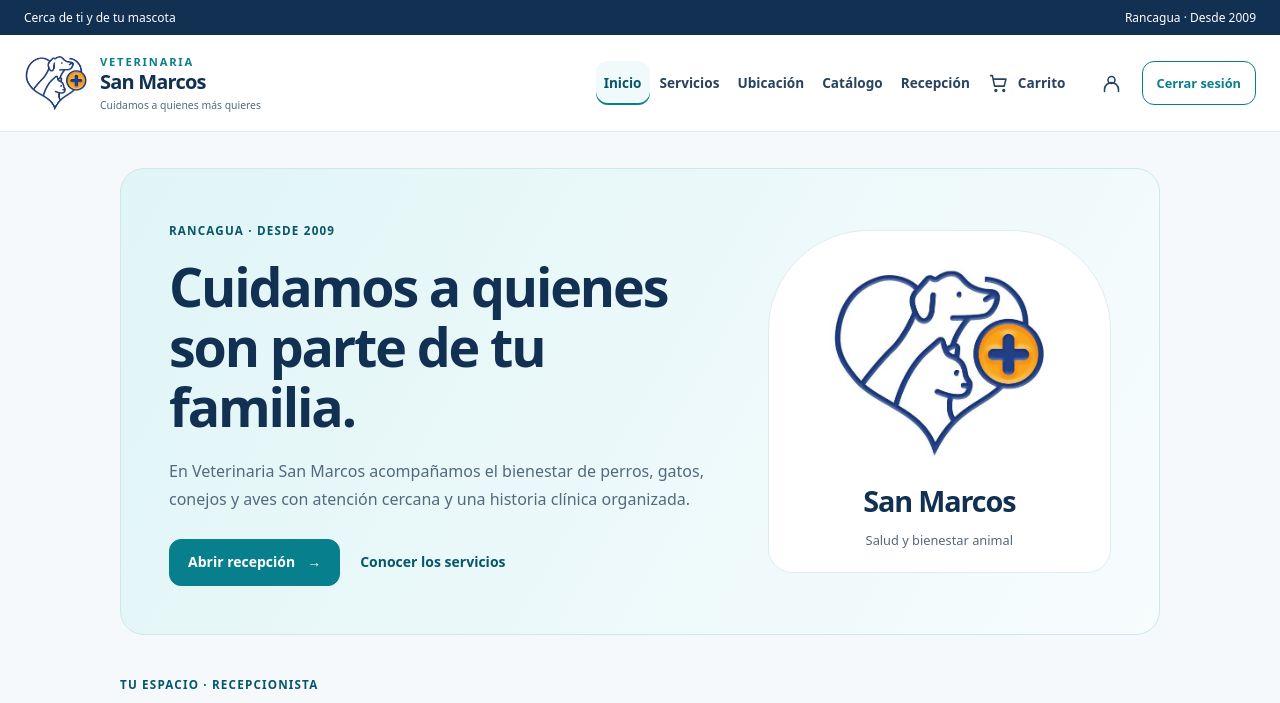
Accesos de carrito y perfil en el navbar › deja el carrito al final y mueve el perfil al nombre de Recepción
Expected: the link "Mi perfil" is not shown
Click the link named "Ver perfil de Recepción". click: (1112,83)
box: top-left (1101, 73), bottom-right (1122, 94)
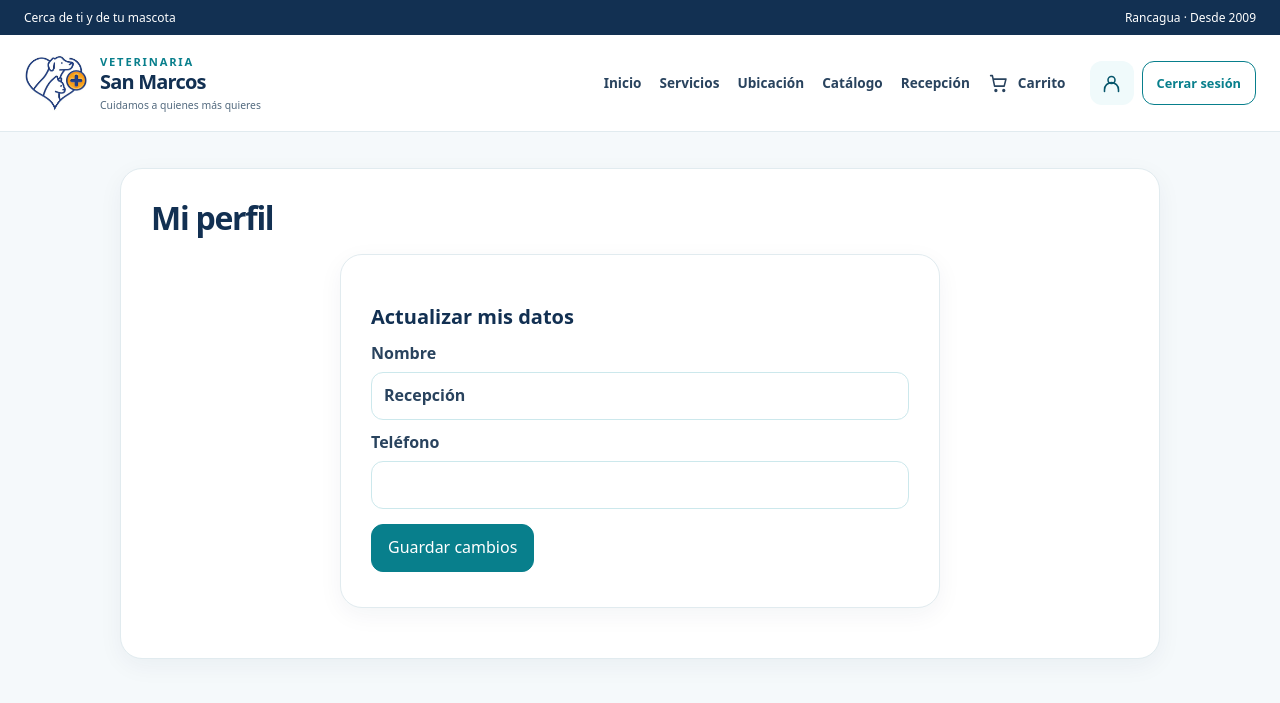
Expected: the heading "Mi perfil" is shown, top-left (151, 196), bottom-right (273, 239)
